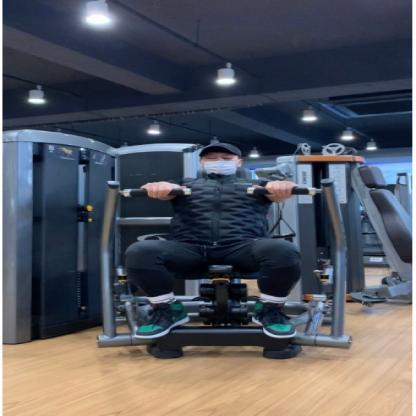Chest Press machine: (10, 120, 407, 368)
